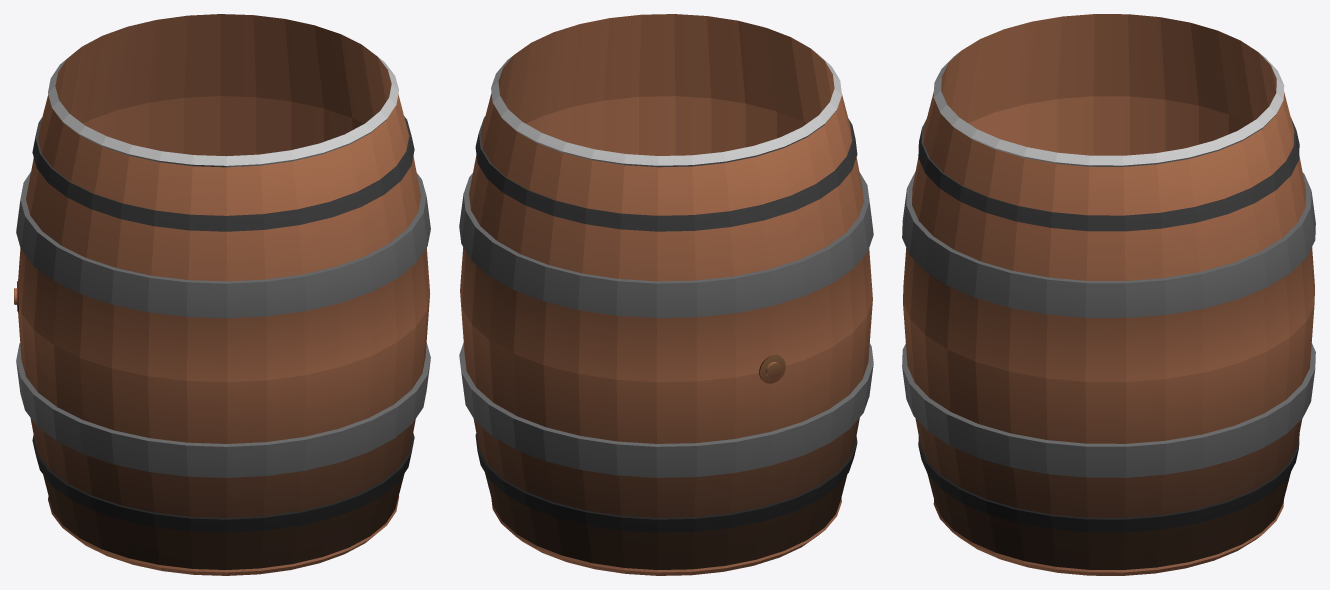
Rendered from Small Med Open Barrel.fbx.
3 views of the same model, side by side, from view 1: azimuth 30°, elevation 25°; view 2: azimuth 150°, elevation 25°; view 3: azimuth 270°, elevation 25° (orthographic).
Parts seen in each view (by area): view 1: Small Med Open Barrel; view 2: Small Med Open Barrel; view 3: Small Med Open Barrel.
Part boxes in pixels (box(x1,y1,x2,y2)): Small Med Open Barrel: box(14, 14, 430, 575); Small Med Open Barrel: box(459, 14, 873, 575); Small Med Open Barrel: box(902, 14, 1315, 575).
Bounding box in the file's own units: 254 × 226 × 226.
1 material, 1 textured.
